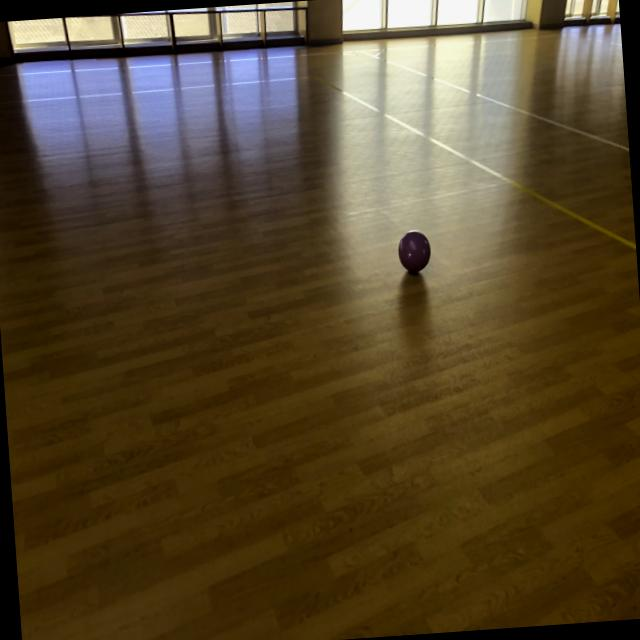purple_ball: (397, 226, 432, 272)
